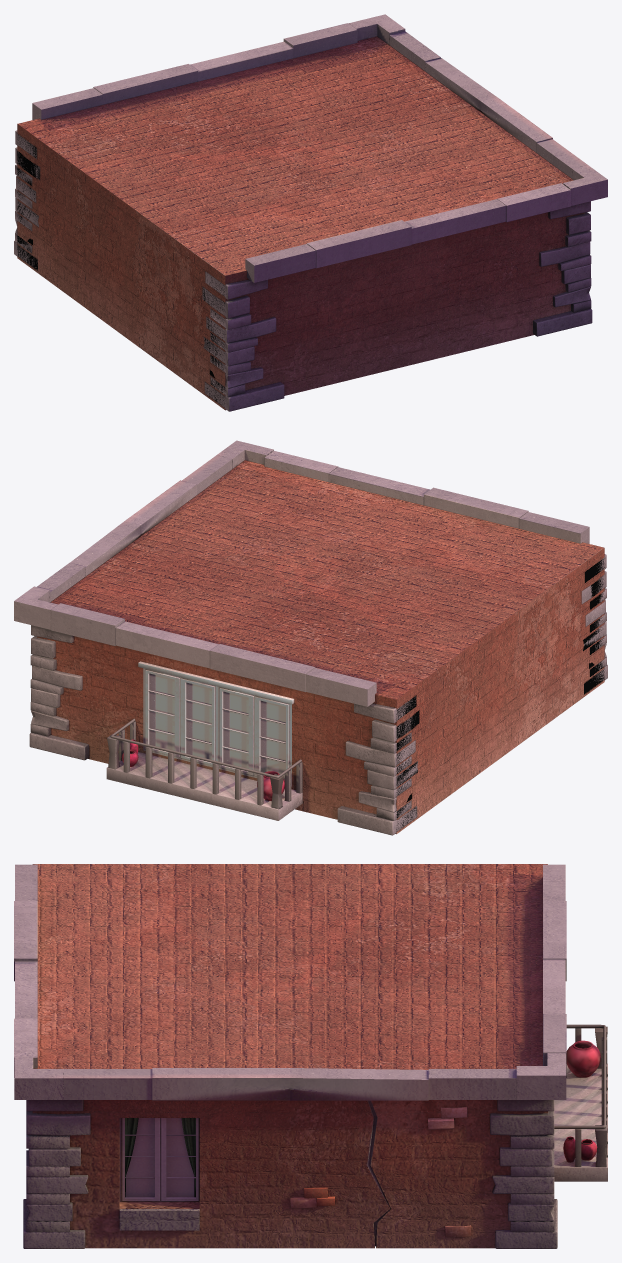
File: G2_exterieur_baked.gltf
3 renders of one model, top to bottom at view 1: azimuth 30°, elevation 25°; view 2: azimuth 150°, elevation 25°; view 3: azimuth 270°, elevation 25°, orthographic. The views are drawn at different scales.
Visible parts, largest first — view 1: ensemble_exterieur.001; view 2: ensemble_exterieur.001; view 3: ensemble_exterieur.001.
Boxes of the visible parts, box(x1,y1,x2,y2) form: ensemble_exterieur.001: box(14, 14, 607, 411); ensemble_exterieur.001: box(14, 440, 607, 835); ensemble_exterieur.001: box(14, 864, 607, 1248).
Bounding box in the file's own units: 8.78 × 3.28 × 9.69.
Materials: 1 (1 with a texture image).
